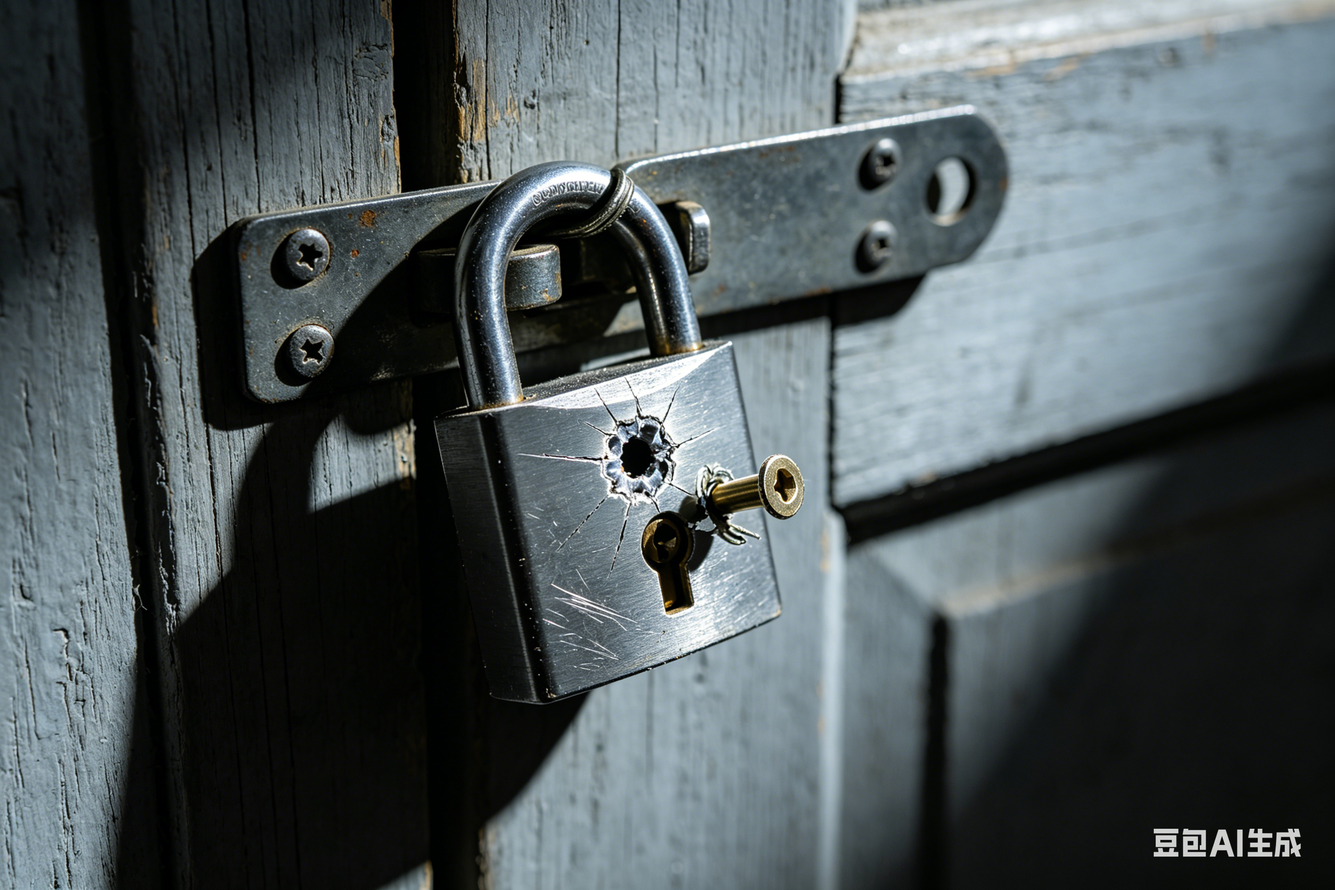BadLock: (542, 397, 804, 594)
